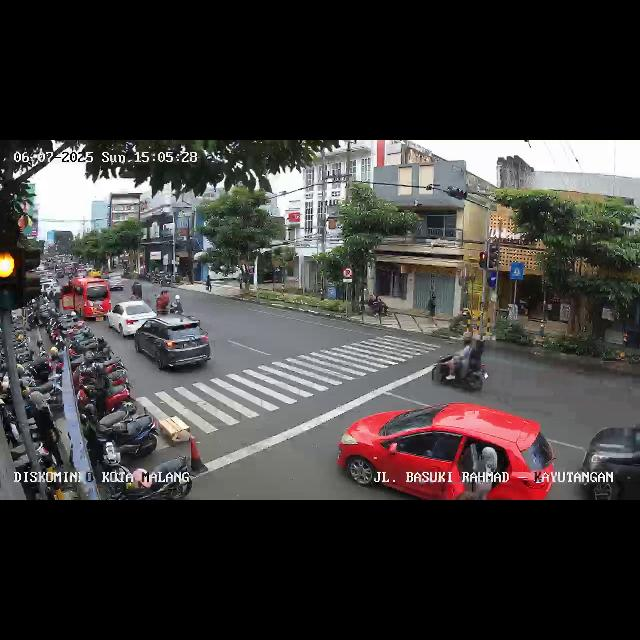car: (339, 402, 555, 500), (133, 315, 211, 377), (581, 418, 639, 499), (58, 278, 110, 322), (107, 300, 157, 338)
motorcycle: (432, 336, 490, 392), (129, 278, 147, 300), (156, 288, 170, 316), (170, 294, 184, 316)
